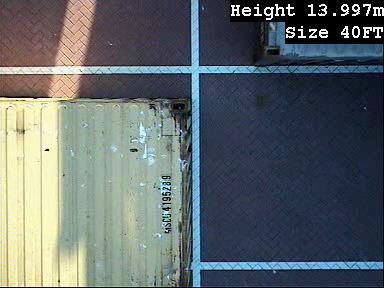groundmarker_2: (154, 77, 239, 118), (196, 215, 227, 259)
